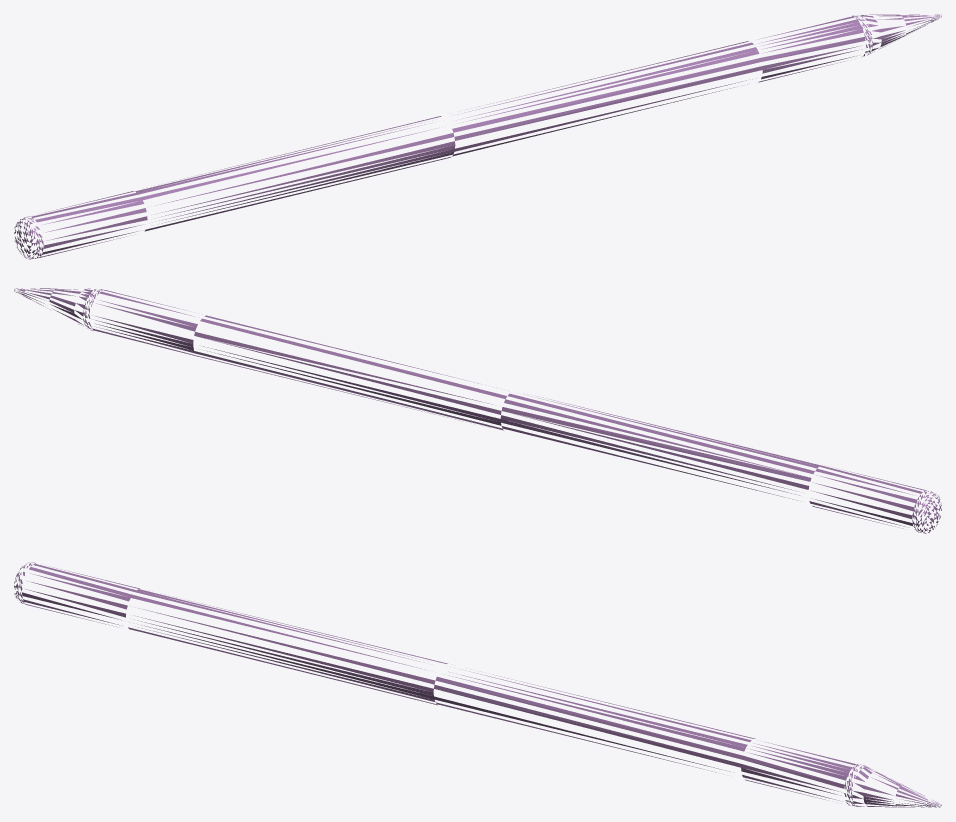
The model's file is stationery_pencil_watercolor_orange_a01.glb.
3 views of the same model, one above another, from view 1: azimuth 30°, elevation 25°; view 2: azimuth 150°, elevation 25°; view 3: azimuth 330°, elevation 25° (orthographic).
Parts seen in each view (by area): view 1: geometry_0; view 2: geometry_0; view 3: geometry_0.
Part boxes in pixels (bbox=[...]): geometry_0: bbox=[14, 14, 941, 259]; geometry_0: bbox=[14, 288, 941, 533]; geometry_0: bbox=[14, 562, 941, 807].
Bounding box in the file's own units: 0.48 × 0.0194 × 0.0194.
